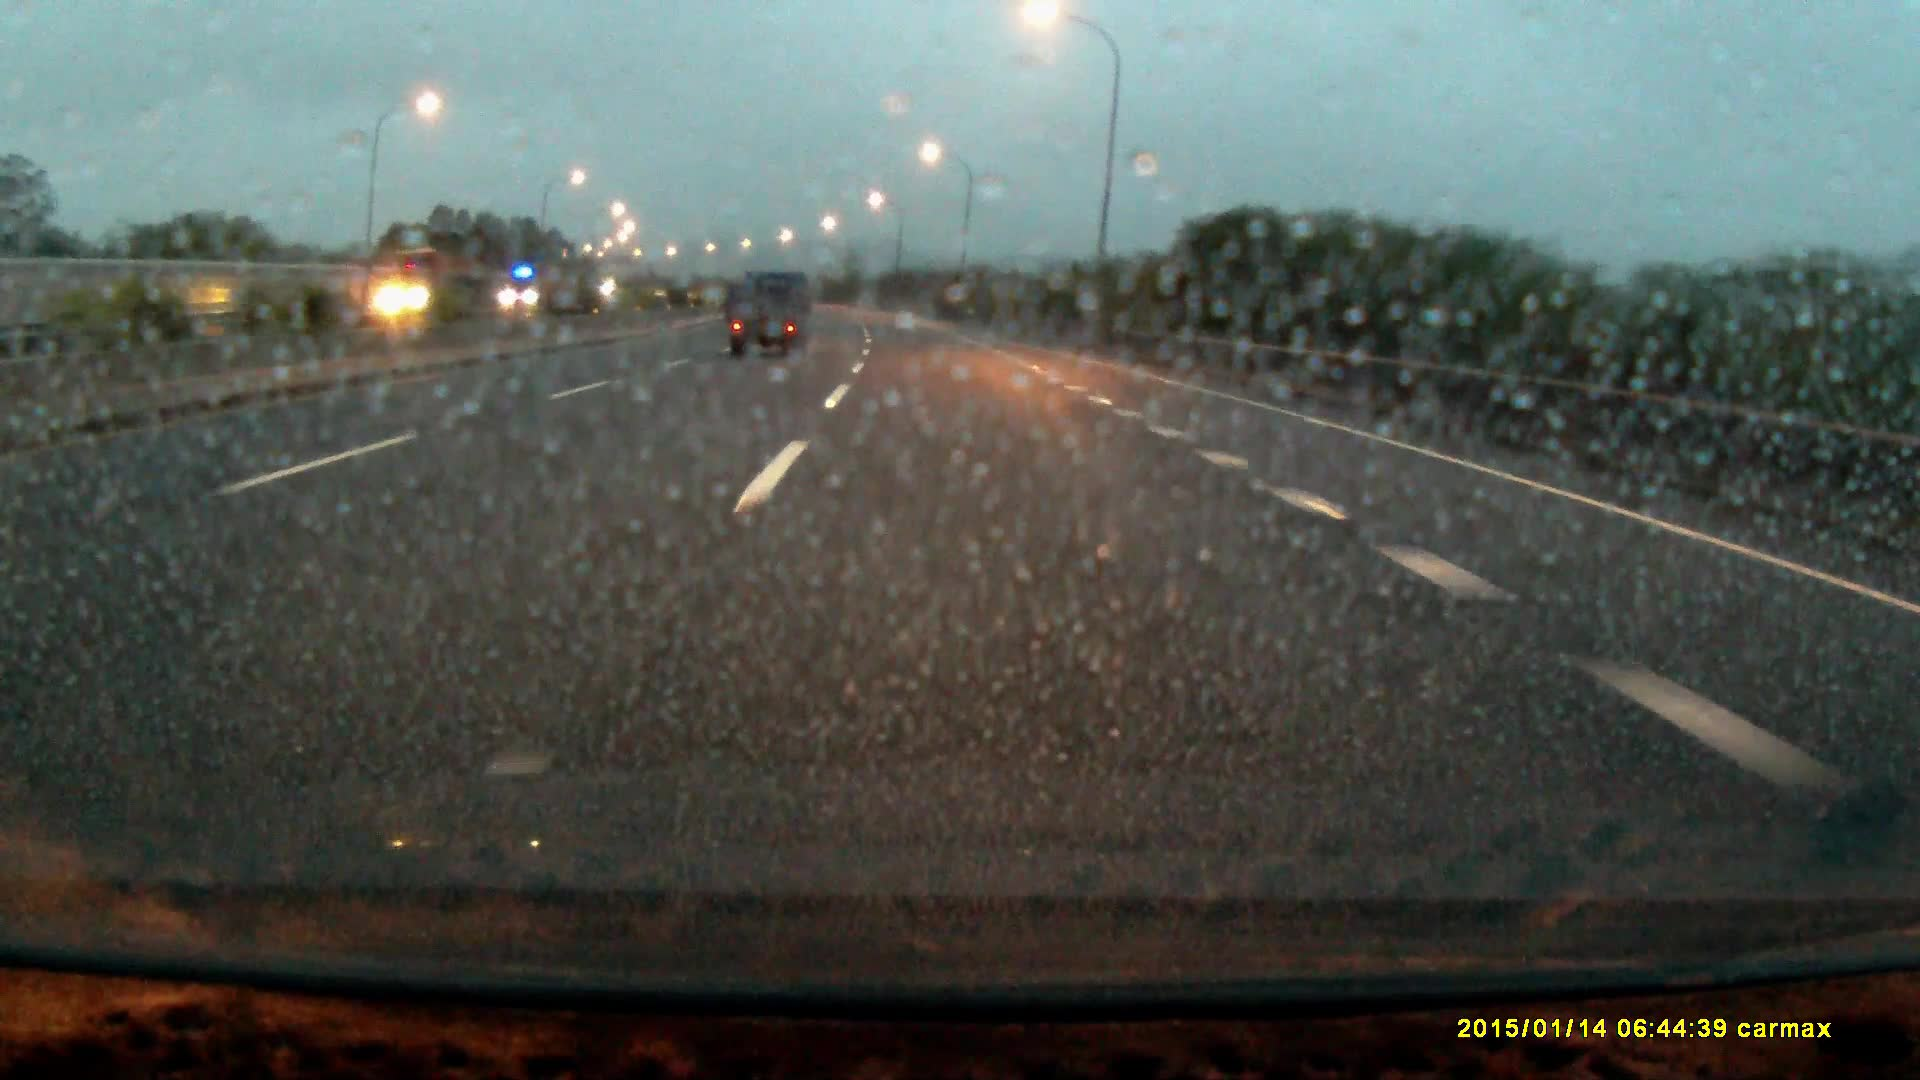vehicle: (381, 251, 487, 320), (731, 268, 808, 360), (500, 262, 570, 314)
